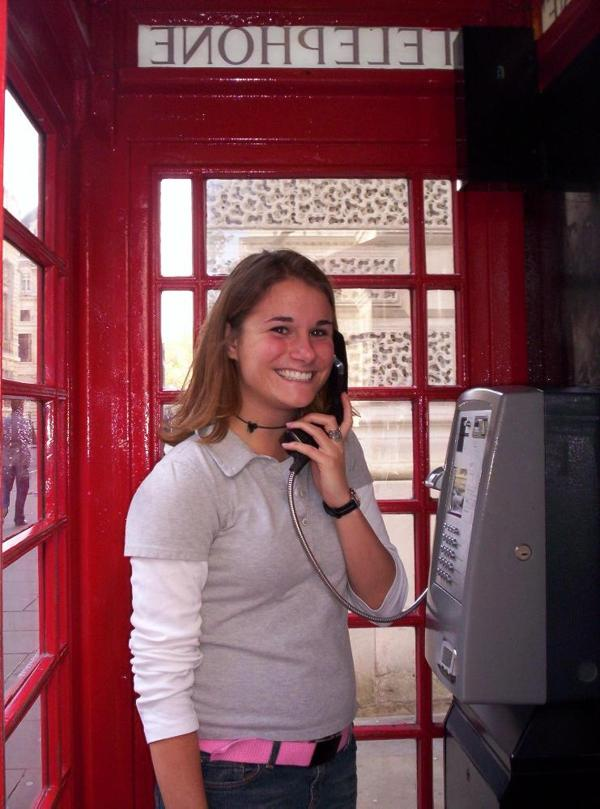person: (123, 238, 409, 807)
